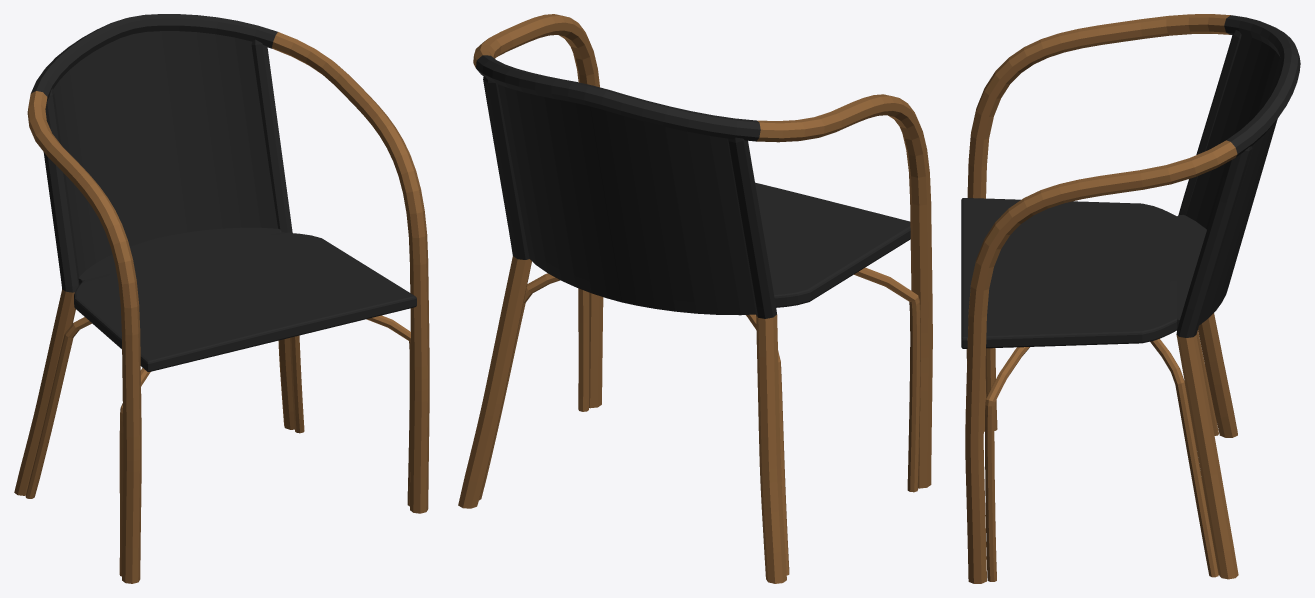
File: bg_chair1_lp.fbx
The picture shows the model from 3 angles, left to right: view 1: azimuth 30°, elevation 25°; view 2: azimuth 150°, elevation 25°; view 3: azimuth 270°, elevation 25°; orthographic projection. The views are drawn at different scales.
Visible parts, largest first — view 1: chair1; view 2: chair1; view 3: chair1.
Part boxes in pixels (box(x1,y1,x2,y2)): chair1: box(14, 14, 429, 583); chair1: box(458, 14, 932, 583); chair1: box(961, 14, 1300, 583).
Size of the model in its own units: 274 by 363 by 248.
